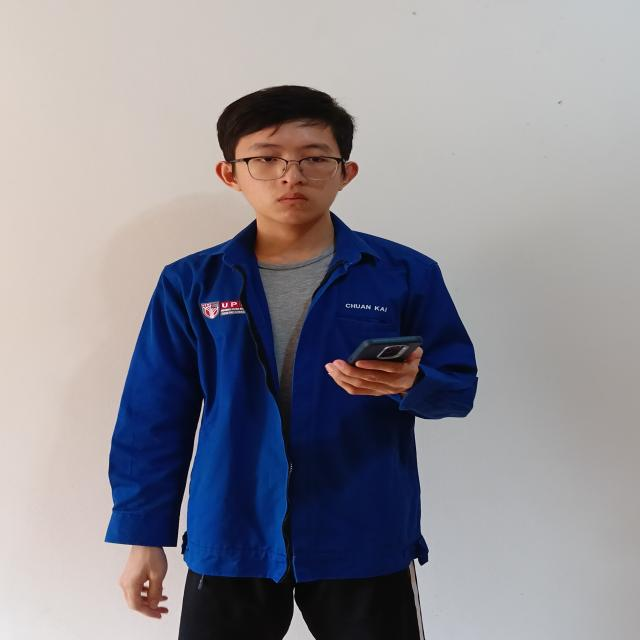person_with_labcoat: (106, 86, 477, 640)
